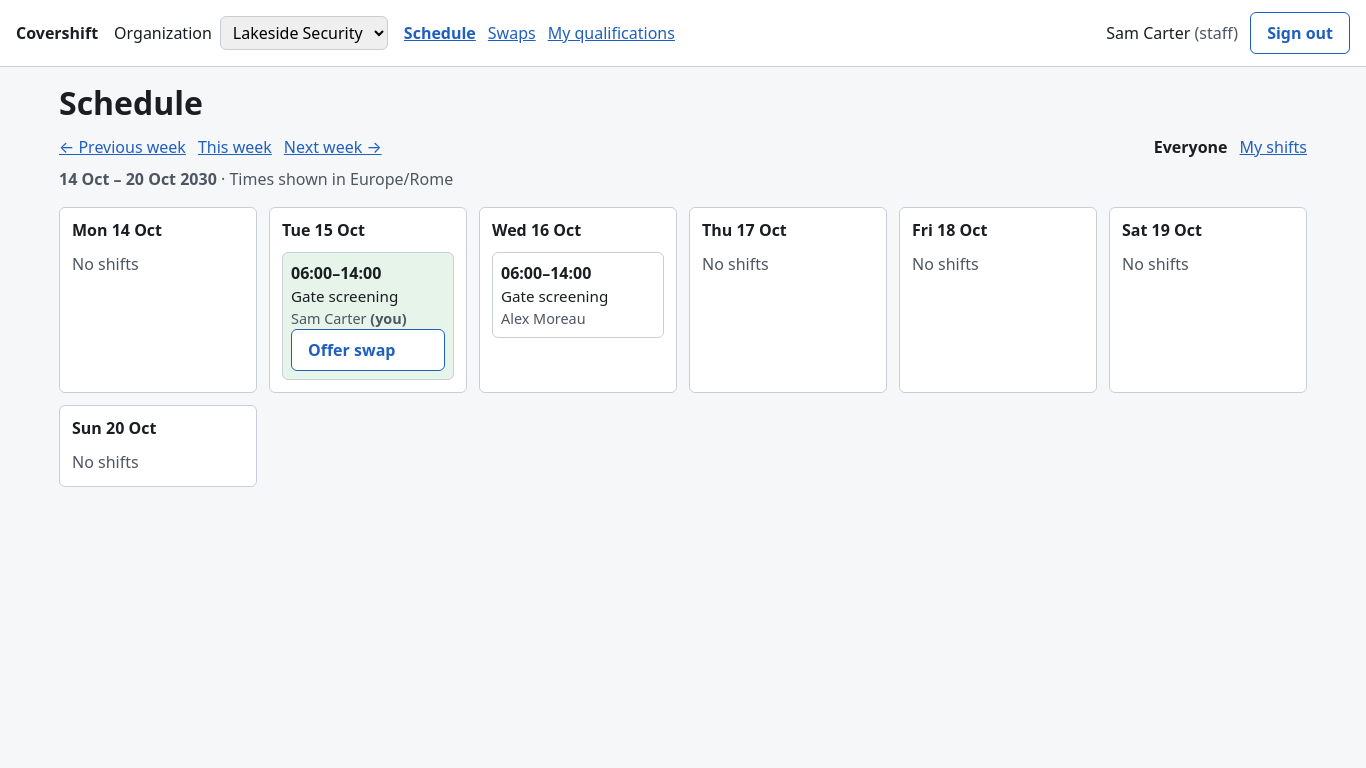
Test case: offering a shift › an open offer sends targetUserId null and no note
Step 1. Click the button with aria-label "Offer swap: Gate screening" → (368, 350), box [291,329,445,371]
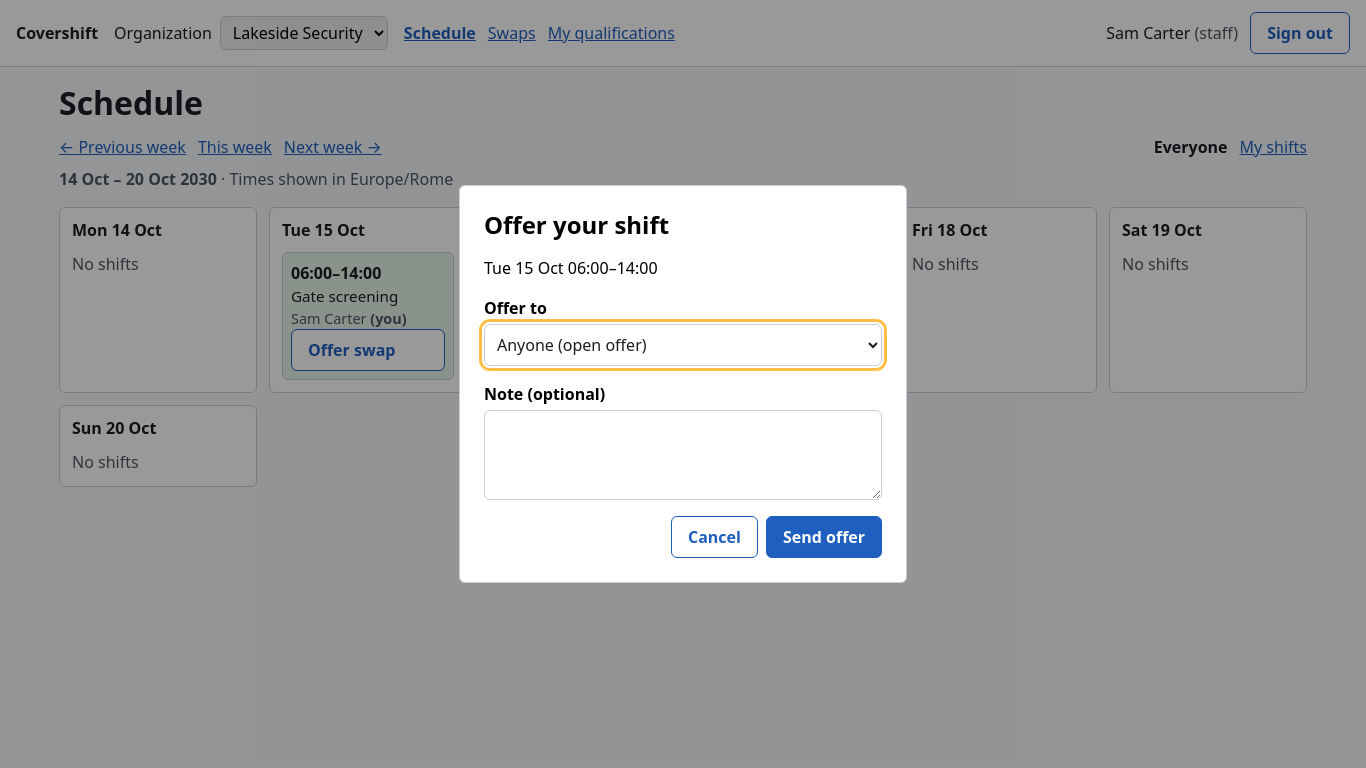
Step 2. Click the button "Send offer" → (824, 537), box [766,516,882,558]
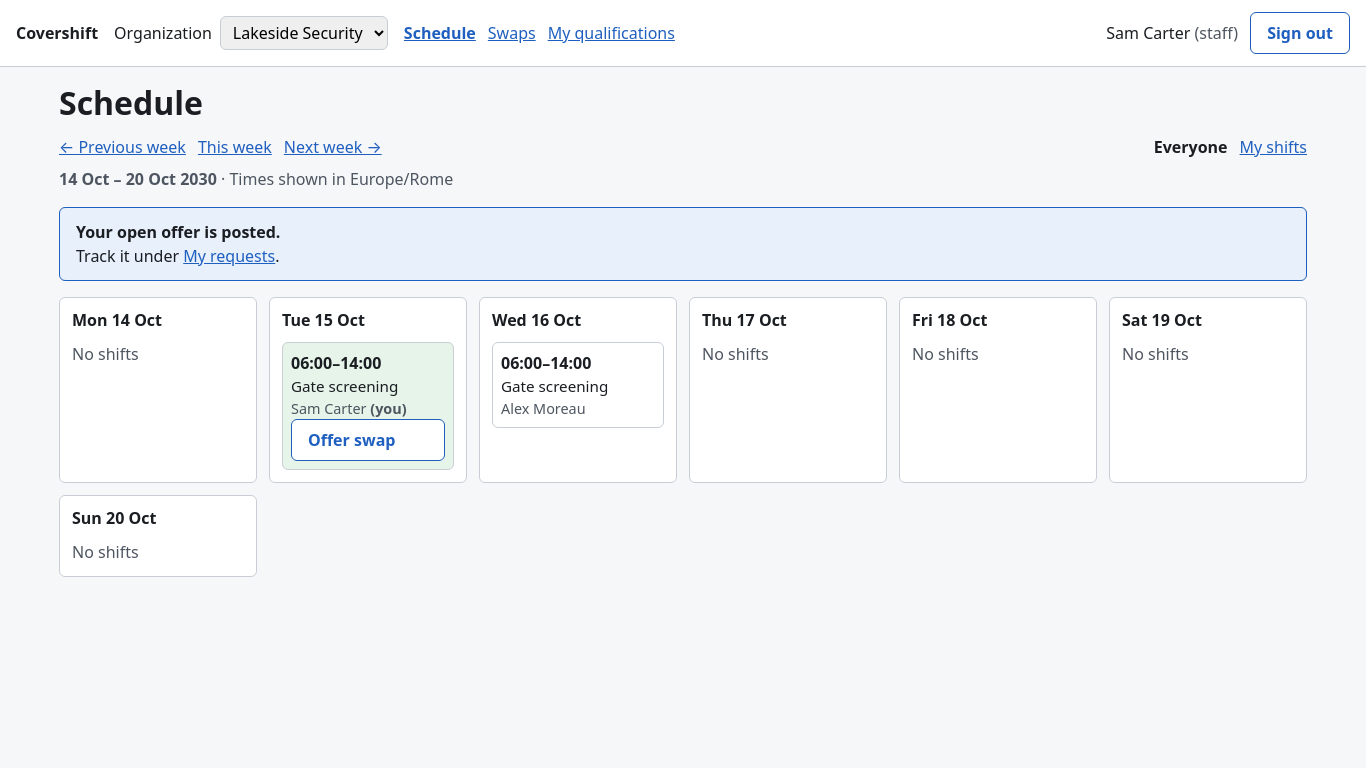
Now the text "Your open offer is posted." is shown, box [76,221,280,243]
